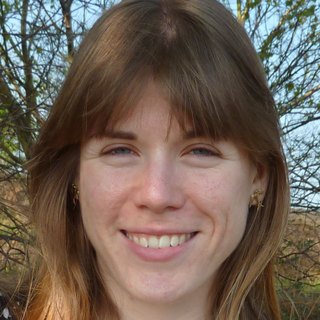eye: (176, 138, 227, 167), (94, 140, 145, 166)
